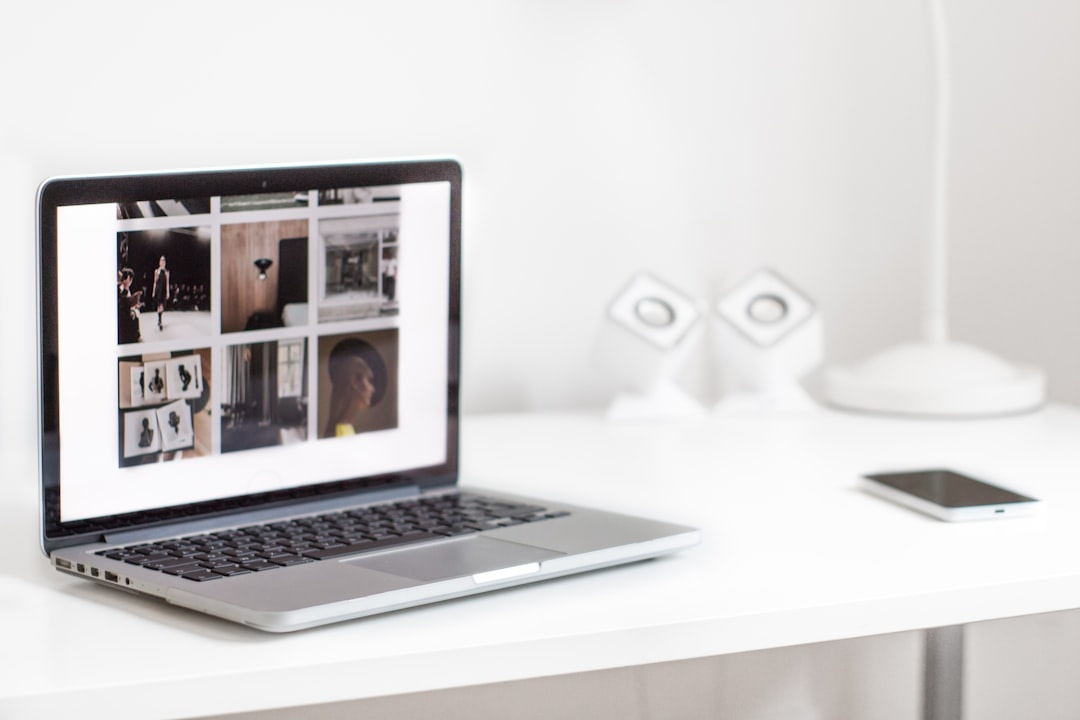laptop: (20, 134, 741, 648)
